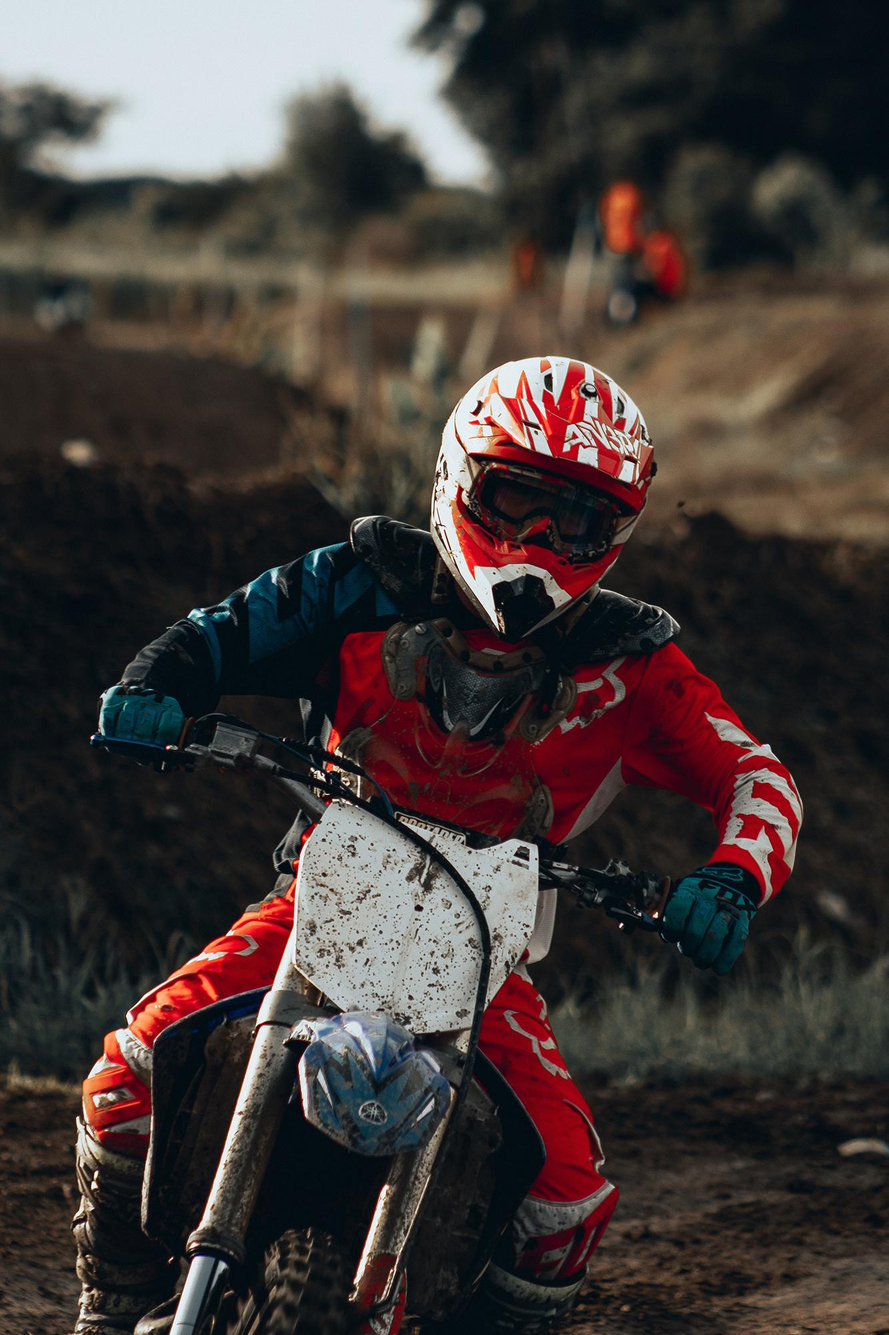helmet: (429, 354, 659, 647)
